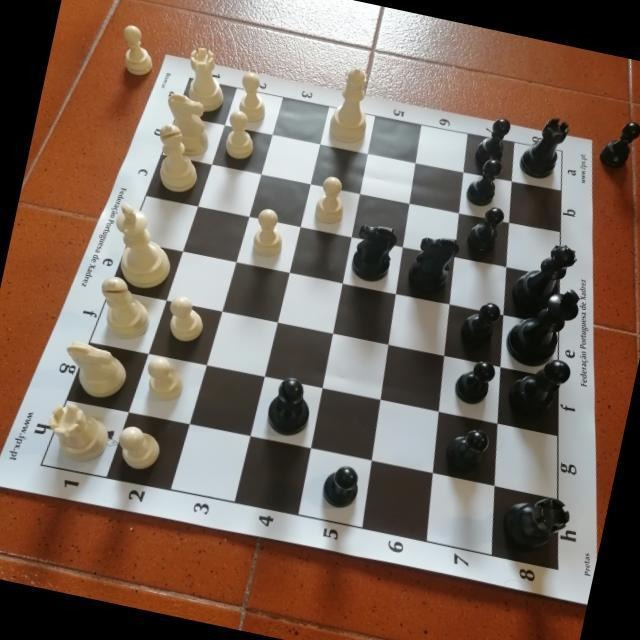black-bishop: (502, 349, 573, 427), (262, 372, 318, 440)
black-king: (500, 276, 584, 375)
black-knight: (404, 232, 462, 300), (347, 220, 399, 287)
black-pawn: (442, 422, 492, 477), (449, 354, 498, 409), (457, 296, 503, 353), (596, 115, 640, 173), (463, 153, 505, 211), (464, 201, 507, 256), (318, 460, 362, 512), (472, 112, 512, 168)
black-queen: (506, 234, 581, 324)
black-rook: (497, 488, 575, 563), (515, 111, 573, 185)
white-bishop: (90, 273, 158, 345), (147, 120, 208, 196)
white-king: (101, 200, 182, 294)
white-knight: (56, 338, 131, 402), (156, 91, 218, 161)
white-pawn: (114, 21, 162, 78), (112, 422, 164, 474), (162, 292, 210, 346), (139, 354, 188, 405), (233, 70, 274, 126), (219, 109, 261, 163), (249, 205, 290, 260), (312, 172, 350, 227)
white-queen: (324, 61, 379, 147)
white-rook: (38, 398, 114, 469), (177, 44, 234, 116)
